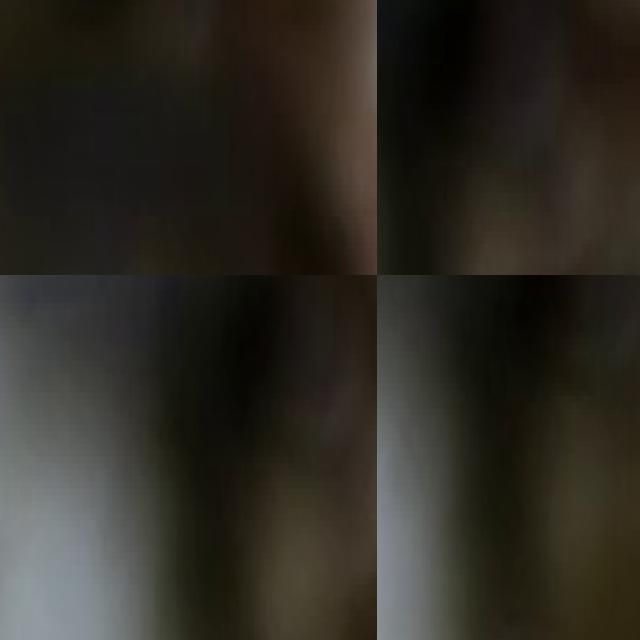fish: (0, 0, 377, 275)
